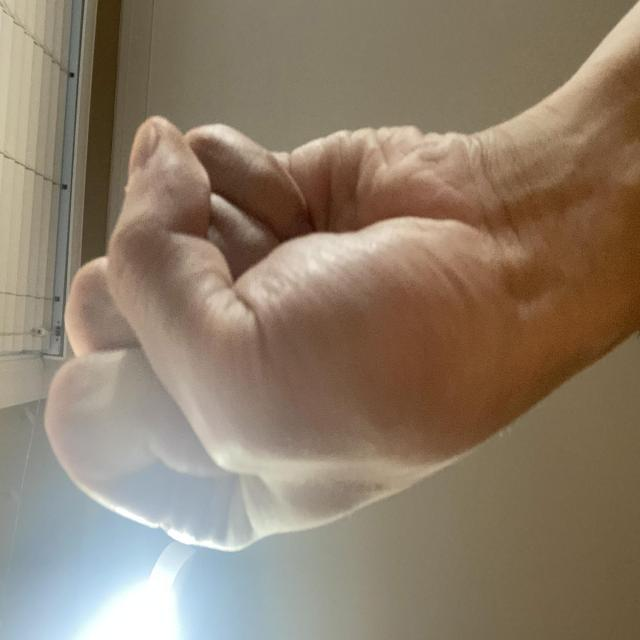S: (57, 47, 405, 640)
